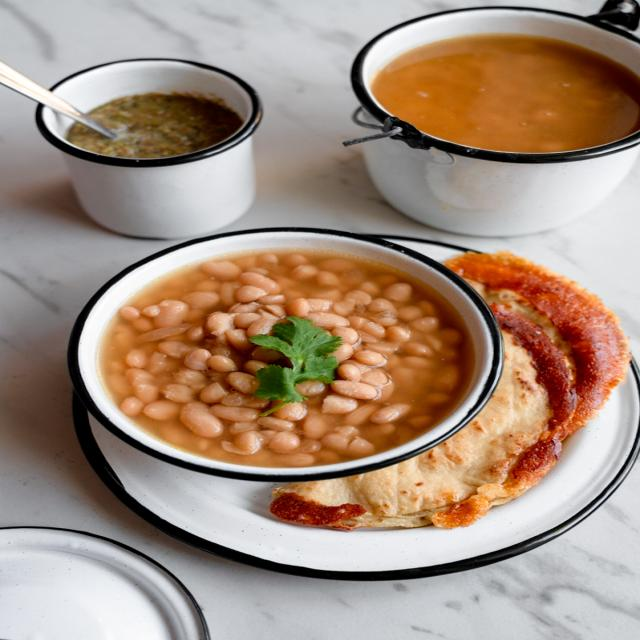frijoles: (93, 246, 464, 468), (375, 18, 637, 155)
